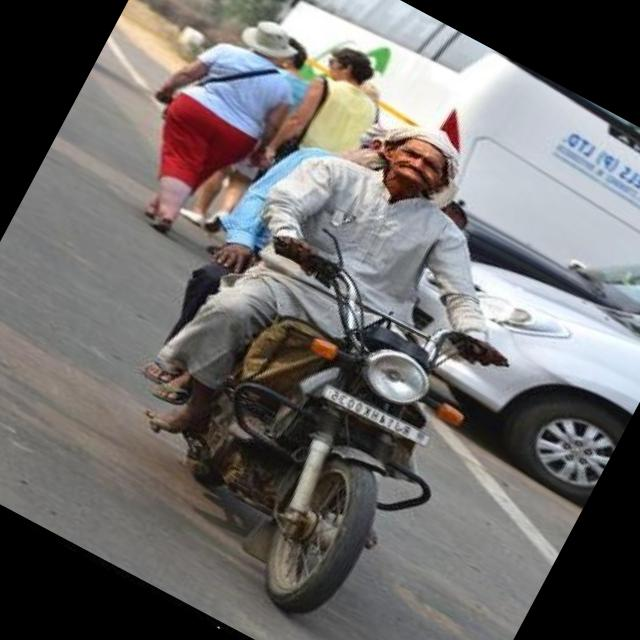without helmet: (350, 106, 476, 220)
